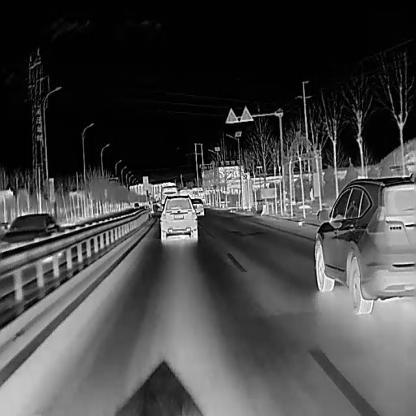car: (313, 170, 415, 314), (0, 212, 64, 263), (159, 194, 198, 245), (161, 186, 177, 208), (191, 198, 204, 216), (131, 202, 139, 208)
